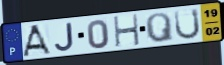0: (85, 18, 111, 50)
A: (21, 24, 53, 58)
H: (113, 13, 142, 49)
J: (54, 21, 76, 52)
Q: (144, 12, 175, 44)
U: (173, 7, 202, 41)
